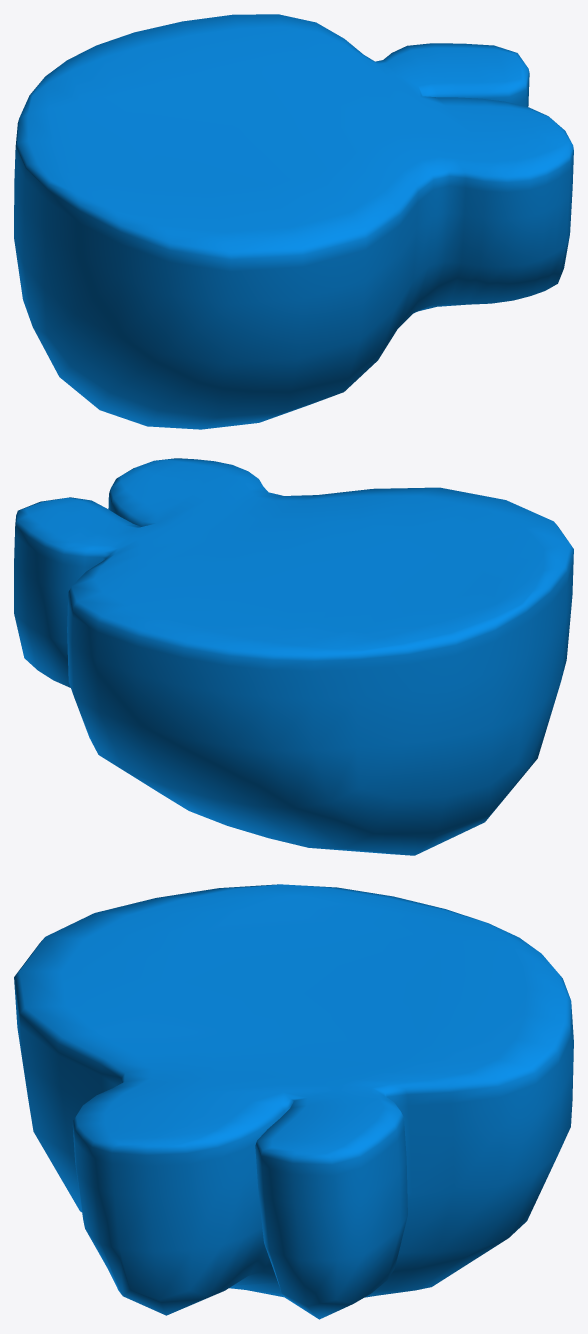
Rendered from Main Island Layer.fbx.
The picture shows the model from 3 angles, top to bottom: view 1: azimuth 30°, elevation 25°; view 2: azimuth 150°, elevation 25°; view 3: azimuth 270°, elevation 25°; orthographic projection. The views are drawn at different scales.
Parts seen in each view (by area): view 1: Main Island Layer; view 2: Main Island Layer; view 3: Main Island Layer.
Part boxes in pixels (x1=…): Main Island Layer: x1=14, y1=14, x2=573, y2=429; Main Island Layer: x1=14, y1=458, x2=573, y2=855; Main Island Layer: x1=14, y1=884, x2=573, y2=1319.
Size of the model in its own units: 527 by 271 by 464.
